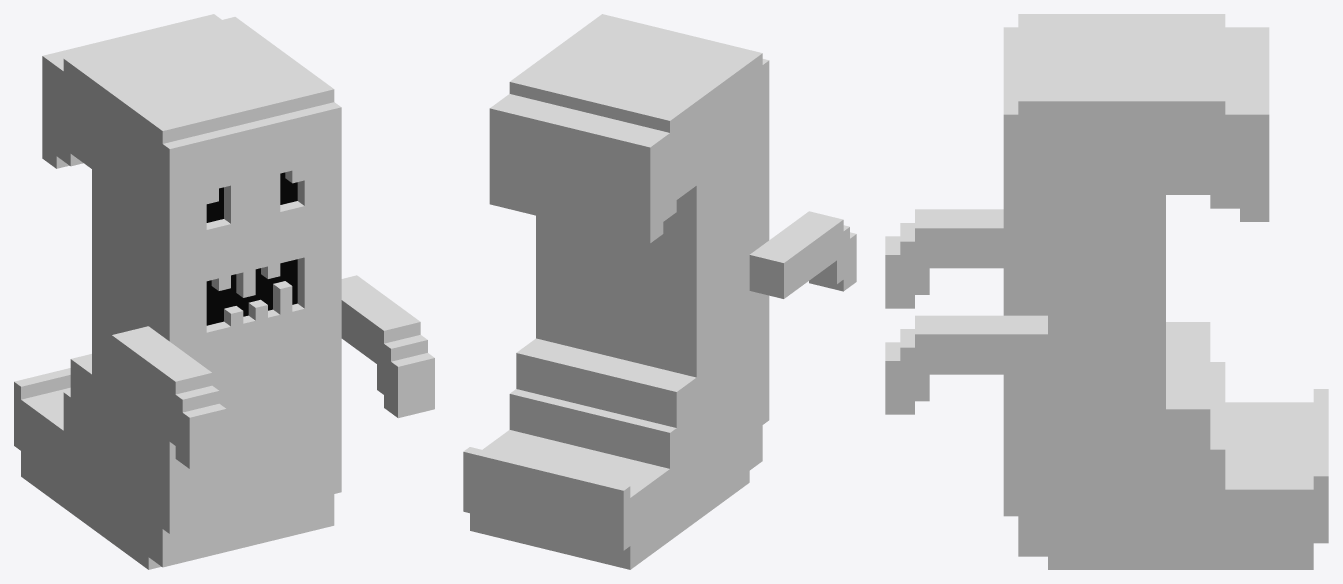
File: Enemy1.obj
The picture shows the model from 3 angles, left to right: view 1: azimuth 30°, elevation 25°; view 2: azimuth 150°, elevation 25°; view 3: azimuth 270°, elevation 25°; orthographic projection. The views are drawn at different scales.
Size of the model in its own units: 2 by 3.5 by 3.
1 material, 1 textured.
